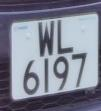1: (38, 56, 54, 95)
6: (20, 57, 42, 98)
7: (70, 50, 91, 92)
9: (50, 53, 72, 94)
L: (56, 18, 76, 57)
W: (35, 18, 57, 60)
